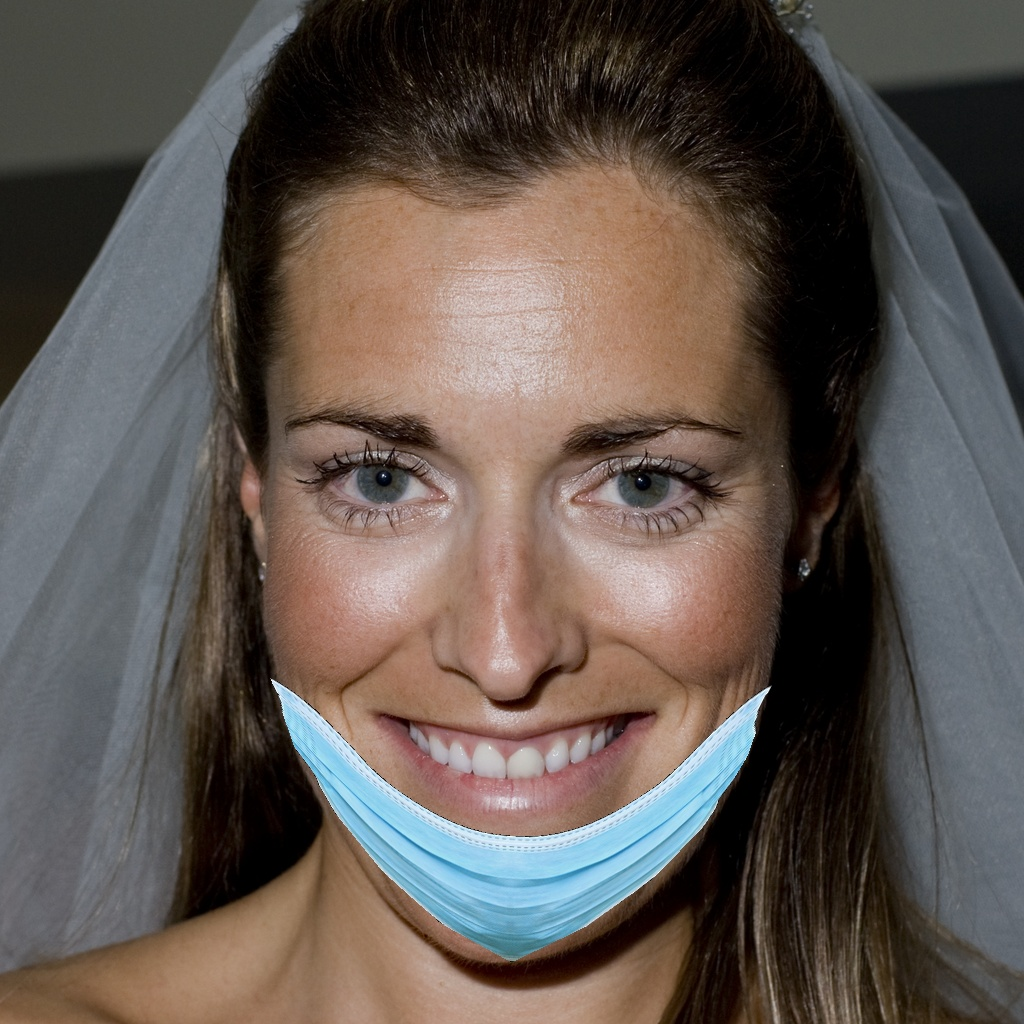mascarilla_mal_puesta: (252, 398, 807, 948)
